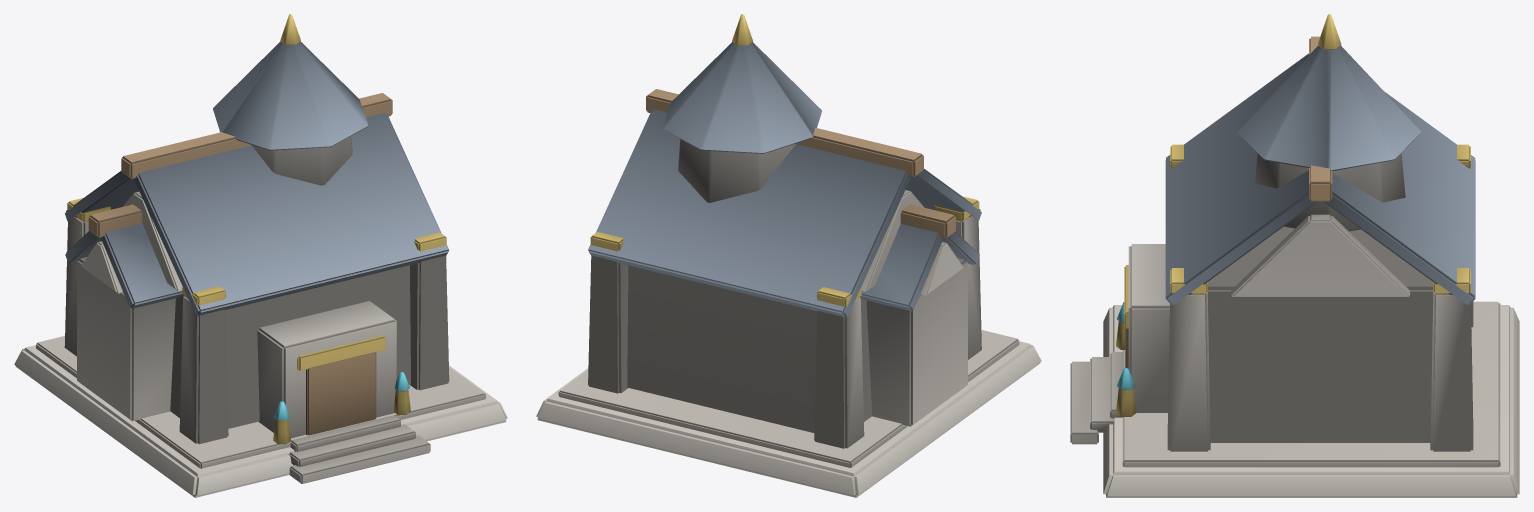
Rendered from core_archive_townhall_lv2_lod0.glb.
3 renders of one model, left to right at view 1: azimuth 30°, elevation 25°; view 2: azimuth 150°, elevation 25°; view 3: azimuth 270°, elevation 25°, orthographic. The views are drawn at different scales.
Visible parts, largest first — view 1: core_archive_townhall_lv2; view 2: core_archive_townhall_lv2; view 3: core_archive_townhall_lv2.
Part boxes in pixels (x1,y1,x2,y2): core_archive_townhall_lv2: (14,14,507,497); core_archive_townhall_lv2: (536,14,1041,497); core_archive_townhall_lv2: (1070,14,1519,497).
Bounding box in the file's own units: 4.71 × 5.12 × 4.99.
